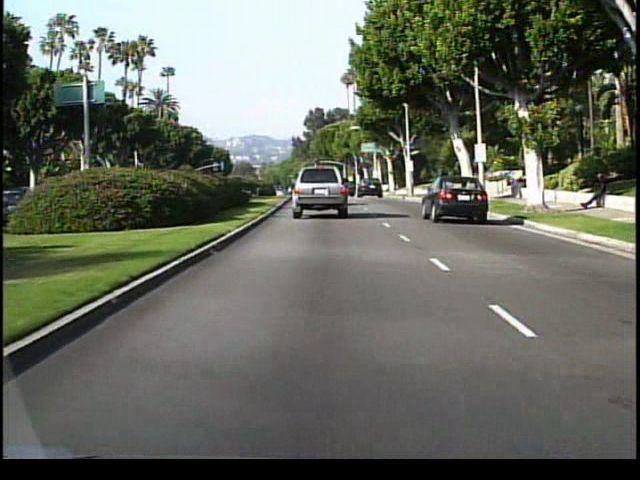person: (581, 169, 609, 215)
